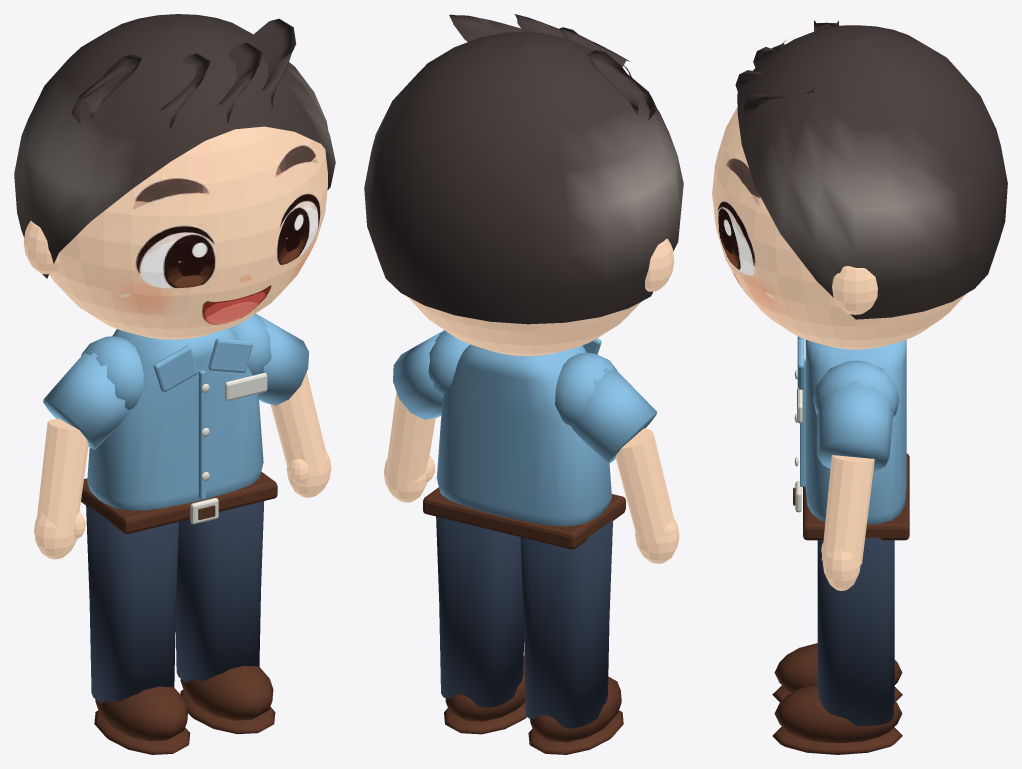
File: person-lizhang.glb
3 views of the same model, side by side, from view 1: azimuth 30°, elevation 25°; view 2: azimuth 150°, elevation 25°; view 3: azimuth 270°, elevation 25° (orthographic).
Parts seen in each view (by area): view 1: Smooth full depth round head with 2D face only, Independent rounded 3D hair cap, Short soft shirt, Trouser leg, Trouser leg.001, Capped short sleeve, Forearm, Shoe upper, Shoe upper.001, Brown waist belt, Forearm.001, Capped short sleeve.001 (+15 smaller); view 2: Independent rounded 3D hair cap, Short soft shirt, Trouser leg, Trouser leg.001, Smooth full depth round head with 2D face only, Capped short sleeve, Forearm, Brown waist belt, Forearm.001, Capped short sleeve.001, Covered shoulder, Shoe upper (+11 smaller); view 3: Independent rounded 3D hair cap, Smooth full depth round head with 2D face only, Trouser leg.001, Short soft shirt, Capped short sleeve.001, Forearm.001, Shoe upper.001, Covered shoulder.001, Brown waist belt, Ear.001, Shoe sole.001, Shoe upper (+2 smaller).
Boxes of the visible parts, x1=… form: Smooth full depth round head with 2D face only: x1=49, y1=126, x2=327, y2=339; Independent rounded 3D hair cap: x1=14, y1=14, x2=335, y2=278; Short soft shirt: x1=87, y1=328, x2=263, y2=510; Trouser leg: x1=86, y1=504, x2=178, y2=703; Trouser leg.001: x1=175, y1=501, x2=264, y2=682; Capped short sleeve: x1=43, y1=351, x2=128, y2=449; Forearm: x1=37, y1=418, x2=88, y2=535; Shoe upper: x1=95, y1=686, x2=188, y2=741; Shoe upper.001: x1=180, y1=665, x2=273, y2=720; Brown waist belt: x1=81, y1=472, x2=277, y2=533; Forearm.001: x1=270, y1=372, x2=326, y2=477; Capped short sleeve.001: x1=255, y1=313, x2=308, y2=405; Independent rounded 3D hair cap: x1=364, y1=31, x2=683, y2=324; Short soft shirt: x1=436, y1=344, x2=611, y2=526; Trouser leg: x1=520, y1=519, x2=612, y2=728; Trouser leg.001: x1=436, y1=516, x2=523, y2=707; Smooth full depth round head with 2D face only: x1=408, y1=297, x2=641, y2=355; Capped short sleeve: x1=572, y1=367, x2=656, y2=464; Forearm: x1=615, y1=428, x2=673, y2=544; Brown waist belt: x1=423, y1=487, x2=625, y2=549; Forearm.001: x1=386, y1=392, x2=435, y2=485; Capped short sleeve.001: x1=393, y1=330, x2=444, y2=419; Covered shoulder: x1=555, y1=352, x2=616, y2=426; Shoe upper: x1=530, y1=676, x2=621, y2=742; Independent rounded 3D hair cap: x1=737, y1=25, x2=1007, y2=319; Smooth full depth round head with 2D face only: x1=712, y1=107, x2=966, y2=349; Trouser leg.001: x1=817, y1=538, x2=894, y2=726; Short soft shirt: x1=805, y1=339, x2=906, y2=524; Capped short sleeve.001: x1=817, y1=381, x2=893, y2=471; Forearm.001: x1=821, y1=455, x2=874, y2=565; Shoe upper.001: x1=774, y1=684, x2=902, y2=743; Covered shoulder.001: x1=813, y1=360, x2=899, y2=417; Brown waist belt: x1=803, y1=453, x2=909, y2=540; Ear.001: x1=832, y1=266, x2=877, y2=314; Shoe sole.001: x1=772, y1=726, x2=902, y2=754; Shoe upper: x1=774, y1=643, x2=902, y2=692.
Size of the model in its own units: 0.7 by 1.57 by 0.6155.
8 materials, 1 textured.
